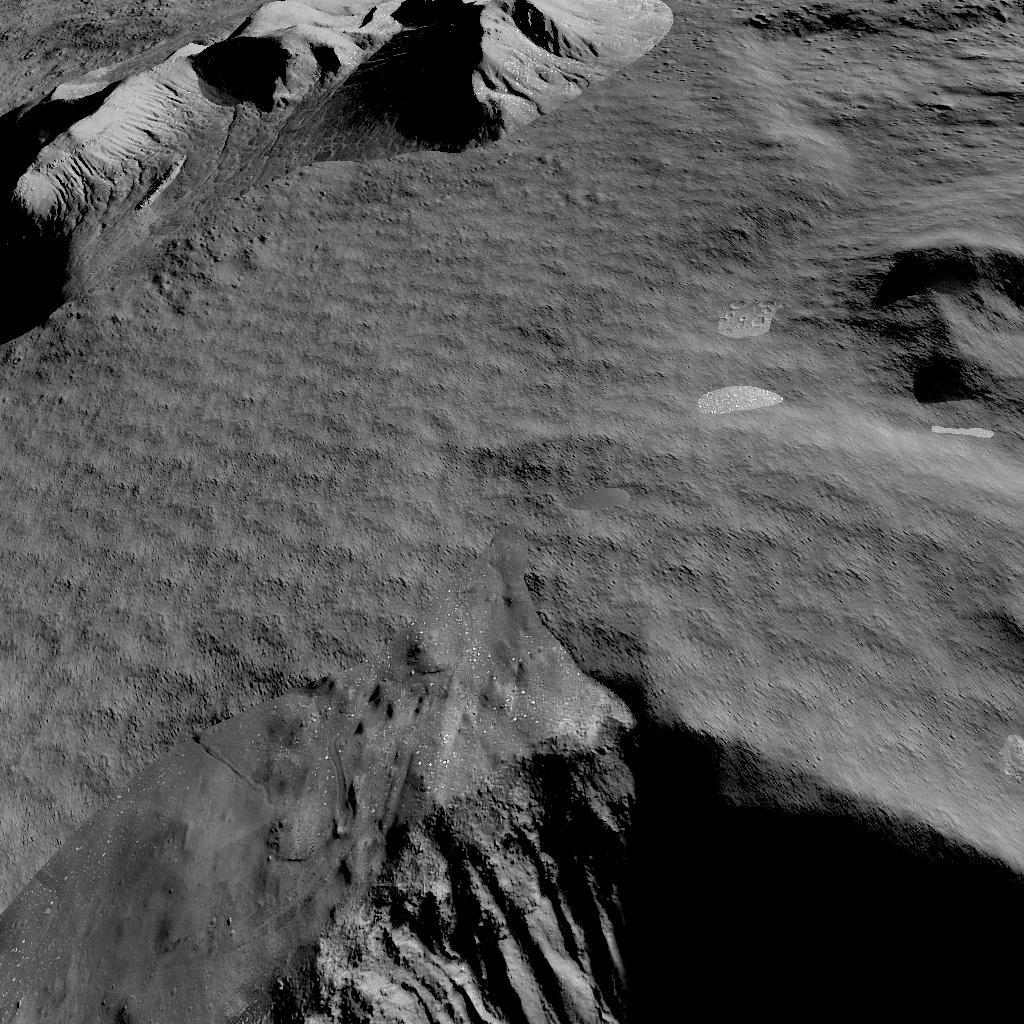Boulders: (0, 0, 673, 346)
Crater: (0, 542, 1024, 1024), (823, 200, 1024, 438), (739, 0, 1024, 79)
Plan surface: (5, 362, 801, 506)
